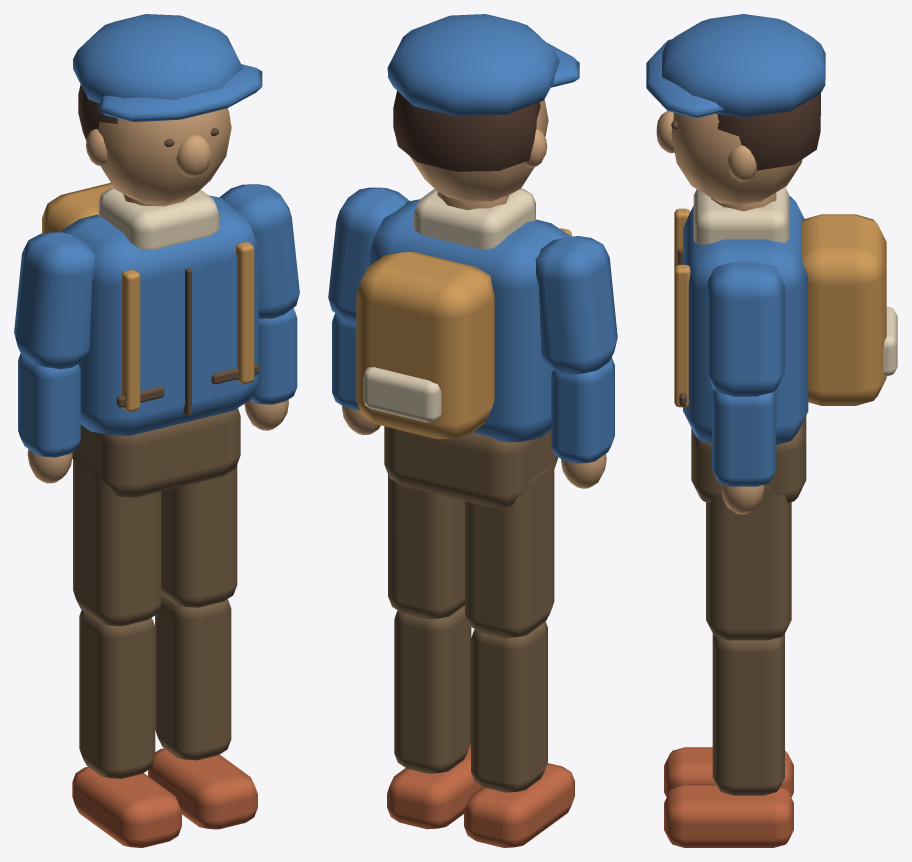
The model's file is pedestrian-child.glb.
3 renders of one model, left to right at view 1: azimuth 30°, elevation 25°; view 2: azimuth 150°, elevation 25°; view 3: azimuth 270°, elevation 25°, orthographic.
Visible parts, largest first — view 1: upper-body, head, left-thigh, left-knee, right-knee, Harbor pedestrian child, left-shoulder, right-thigh, left-elbow, left-ankle, right-ankle, right-shoulder (+1 smaller); view 2: upper-body, head, left-thigh, left-knee, right-knee, Harbor pedestrian child, left-shoulder, right-thigh, left-elbow, left-ankle, right-shoulder, right-ankle (+1 smaller); view 3: upper-body, head, right-thigh, right-knee, right-shoulder, right-ankle, right-elbow, Harbor pedestrian child, left-ankle.
Part boxes in pixels (x1=…): upper-body: x1=42, y1=182, x2=258, y2=435; head: x1=73, y1=14, x2=262, y2=205; left-thigh: x1=73, y1=456, x2=161, y2=626; left-knee: x1=79, y1=610, x2=155, y2=778; right-knee: x1=155, y1=594, x2=231, y2=760; Harbor pedestrian child: x1=72, y1=408, x2=240, y2=497; left-shoulder: x1=14, y1=232, x2=94, y2=369; right-thigh: x1=161, y1=465, x2=237, y2=607; left-elbow: x1=18, y1=353, x2=80, y2=483; left-ankle: x1=72, y1=767, x2=181, y2=847; right-ankle: x1=148, y1=748, x2=257, y2=829; right-shoulder: x1=220, y1=184, x2=299, y2=318; upper-body: x1=356, y1=188, x2=571, y2=442; head: x1=387, y1=14, x2=579, y2=202; left-thigh: x1=465, y1=465, x2=554, y2=637; left-knee: x1=471, y1=621, x2=547, y2=792; right-knee: x1=394, y1=605, x2=471, y2=773; Harbor pedestrian child: x1=384, y1=426, x2=557, y2=507; left-shoulder: x1=535, y1=236, x2=617, y2=374; right-thigh: x1=388, y1=474, x2=464, y2=619; left-elbow: x1=551, y1=357, x2=614, y2=488; left-ankle: x1=464, y1=763, x2=574, y2=847; right-shoulder: x1=328, y1=187, x2=409, y2=323; right-ankle: x1=387, y1=744, x2=482, y2=829; upper-body: x1=674, y1=187, x2=897, y2=444; head: x1=646, y1=14, x2=825, y2=205; right-thigh: x1=706, y1=486, x2=791, y2=640; right-knee: x1=712, y1=634, x2=784, y2=795; right-shoulder: x1=705, y1=261, x2=784, y2=396; right-ankle: x1=664, y1=784, x2=793, y2=847; right-elbow: x1=712, y1=390, x2=776, y2=514; Harbor pedestrian child: x1=691, y1=416, x2=806, y2=502; left-ankle: x1=664, y1=747, x2=793, y2=797.
Bounding box in the file's own units: 0.4501 × 1.26 × 0.3617.
